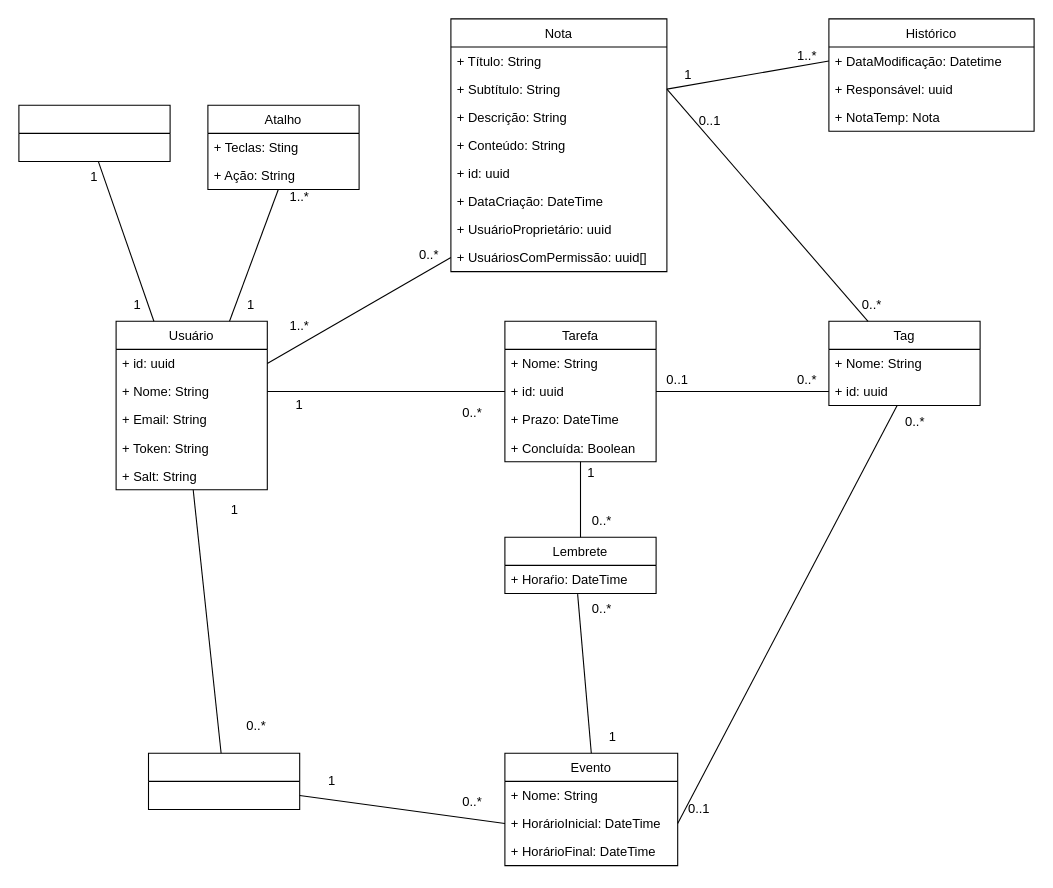
Some shapes in this 1053 by 888 pixel diagram are drawn without their labels. Here are the shapes that lost their labels. From the top down, the centre of each, then its label:
At point 94,132: "Configuração".
At point 223,780: "Calendário".
